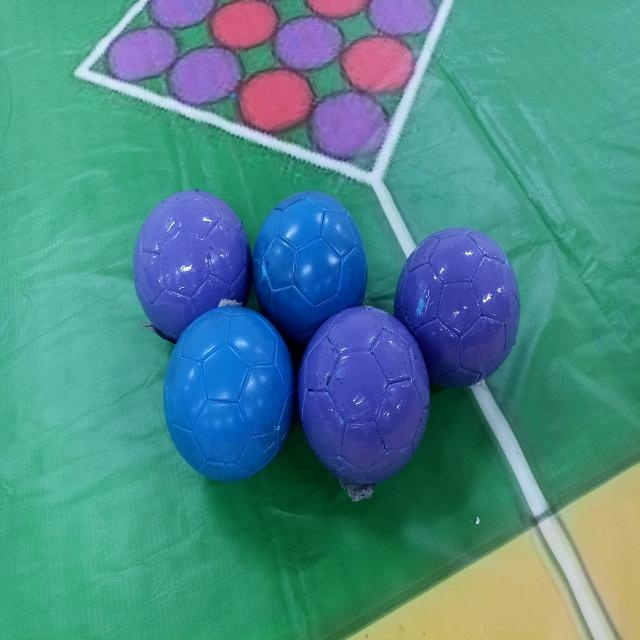blue_ball: (162, 306, 296, 489), (256, 183, 372, 324)
purple_ball: (295, 312, 430, 467), (404, 229, 525, 388), (128, 191, 242, 315)
